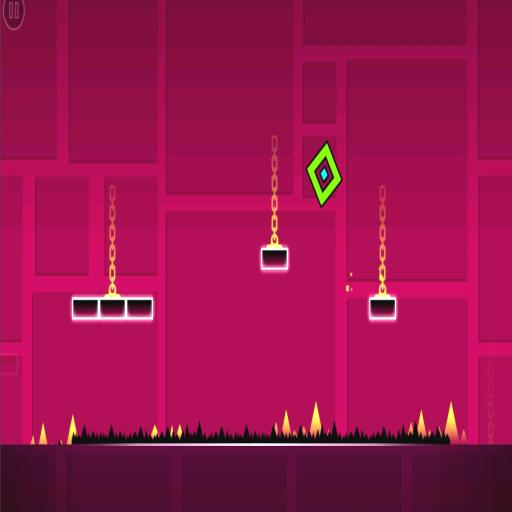block: (69, 291, 157, 326), (365, 292, 399, 324), (259, 243, 290, 275)
player: (304, 136, 343, 209)
spike: (444, 402, 458, 443), (309, 403, 320, 437), (66, 415, 76, 444), (417, 411, 425, 437), (282, 412, 289, 436), (39, 425, 46, 444), (460, 430, 466, 443), (151, 425, 157, 438), (176, 425, 181, 438), (273, 422, 277, 435), (408, 422, 412, 435), (437, 427, 441, 436), (302, 427, 305, 436), (30, 436, 33, 445), (326, 429, 330, 435), (292, 431, 296, 437), (170, 426, 172, 437), (427, 430, 430, 437), (59, 440, 62, 445)
